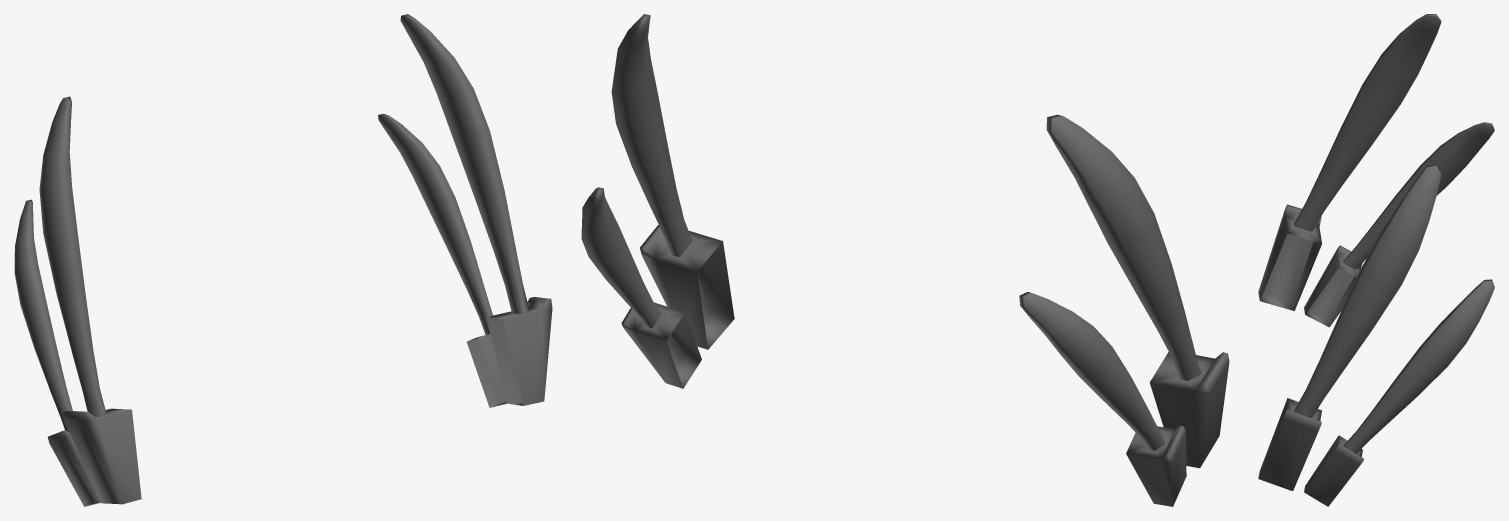
Rendered from Dual_low.fbx.
3 views of the same model, side by side, from view 1: azimuth 30°, elevation 25°; view 2: azimuth 150°, elevation 25°; view 3: azimuth 270°, elevation 25° (orthographic). The views are drawn at different scales.
Parts seen in each view (by area): view 1: Dual_low; view 2: Dual_low; view 3: Dual_low.
Part boxes in pixels (x1,y1,x2,y2): Dual_low: (14, 14, 552, 506); Dual_low: (581, 14, 1229, 506); Dual_low: (1258, 14, 1494, 506).
Size of the model in its own units: 74.57 by 53.91 by 35.68.
